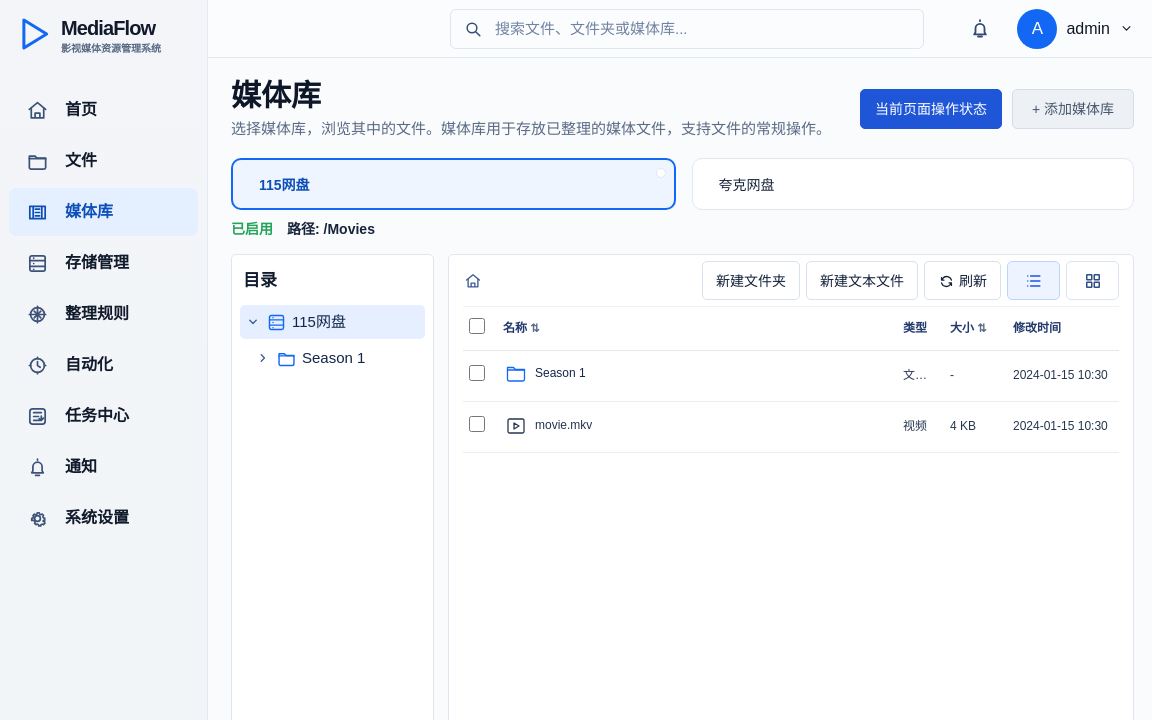
MediaLibrary bounded Copy/Move transfer › refuses a stale manifest without admitting or mutating anything
The image size is (1152, 720).
Expected: the heading "媒体库" is shown, [231,79,321,112]
Expected: the table is shown, [463,307,1119,452]
Click the checkbox named "选择 movie.mkv": (477,424) [469,416,485,432]
(page scrolled)
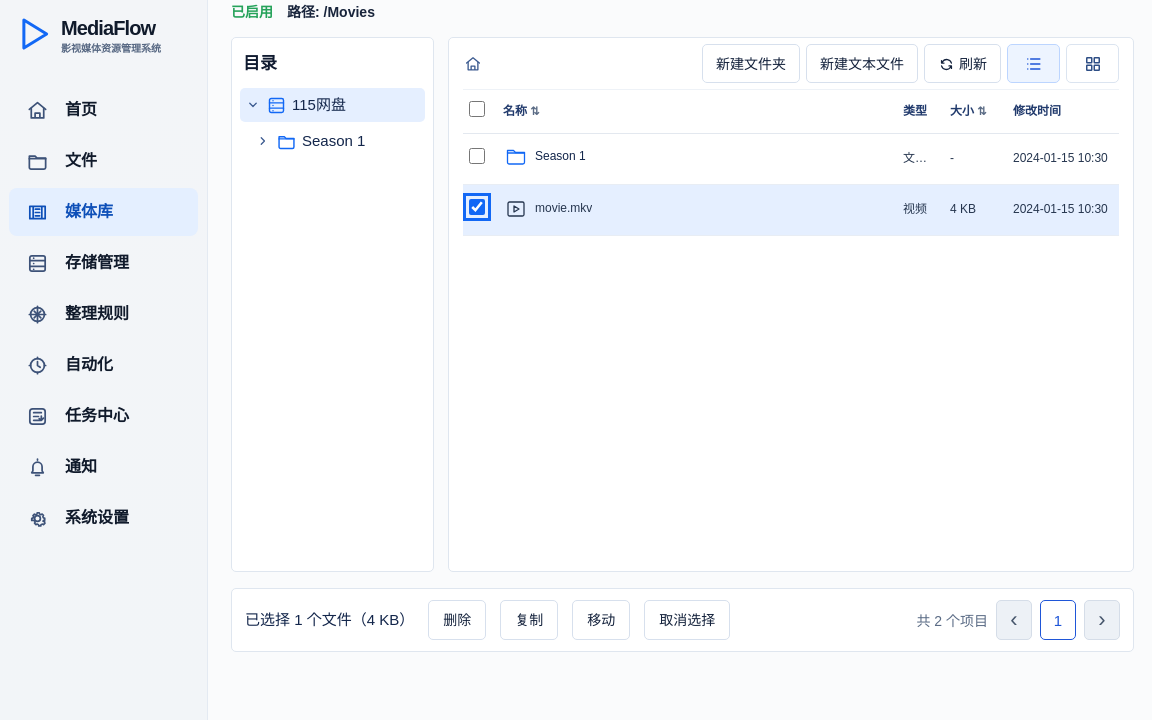
Click the button "复制": (529,620) [500,600,558,640]
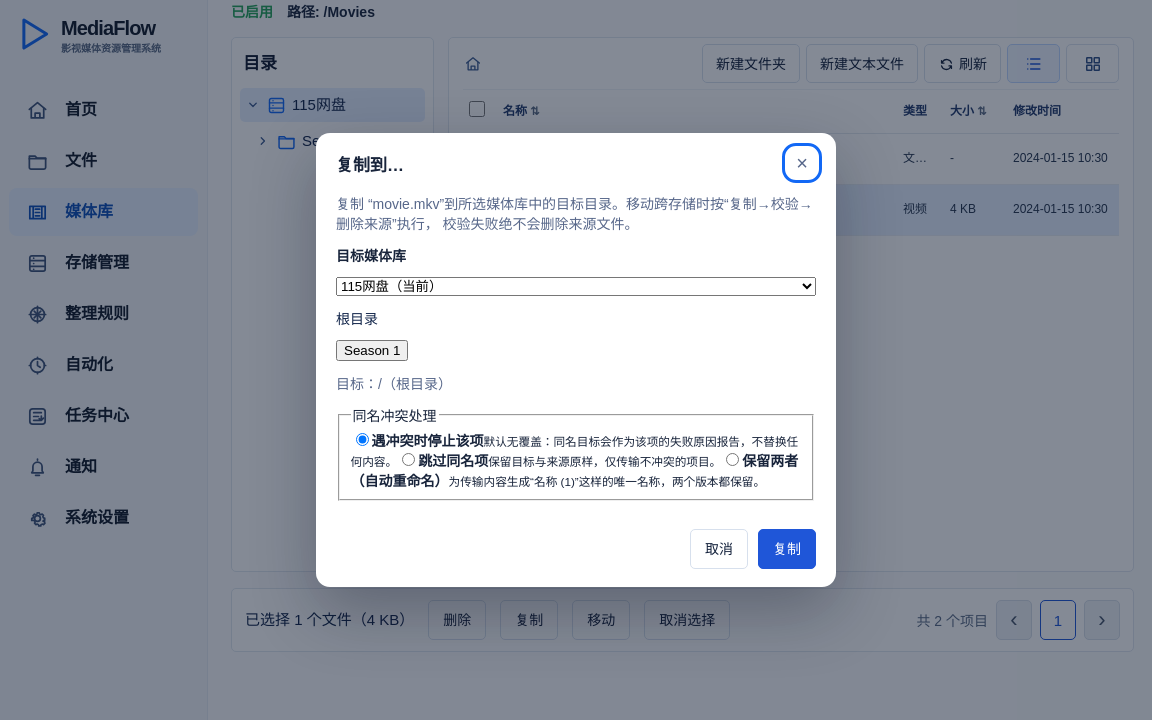
Select "夸克网盘" in the dropdown labelled "目标媒体库": (576,287) [336,277,816,296]
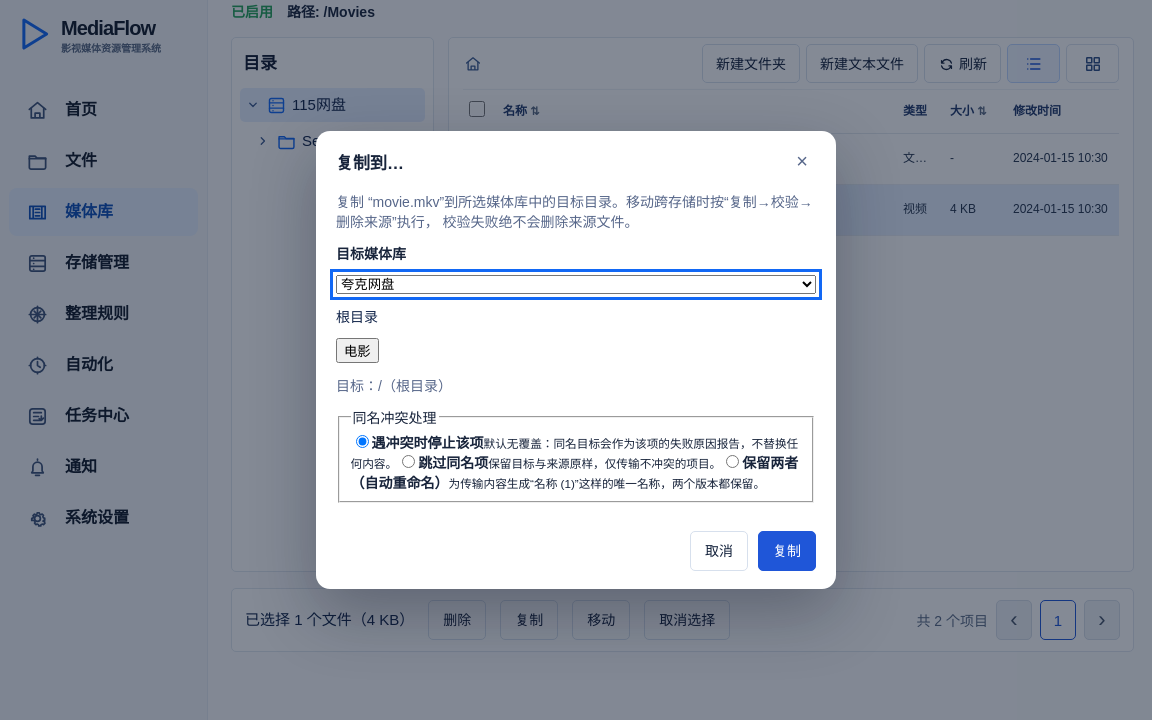
Result: the button "复制" is enabled
Click the button "复制": (787,551) [758,531,816,571]
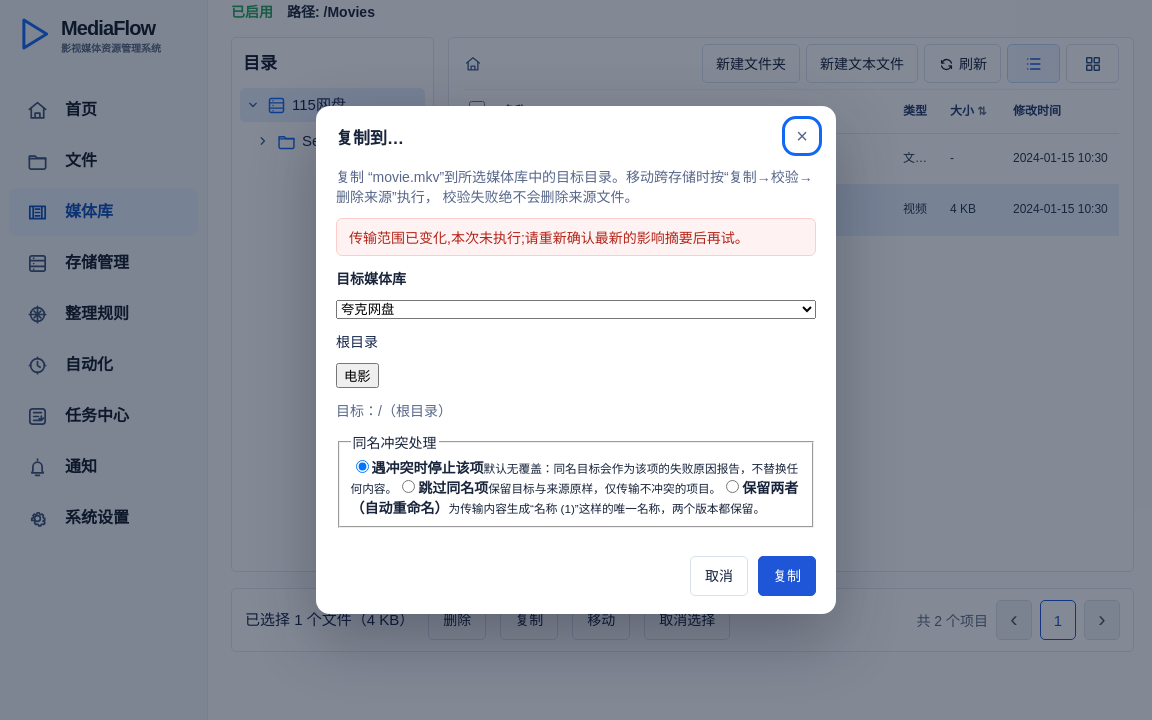
Result: the text "传输范围已变化,本次未执行;请重新确认最新的影响摘要后再试。" is shown at [336,218,816,256]
